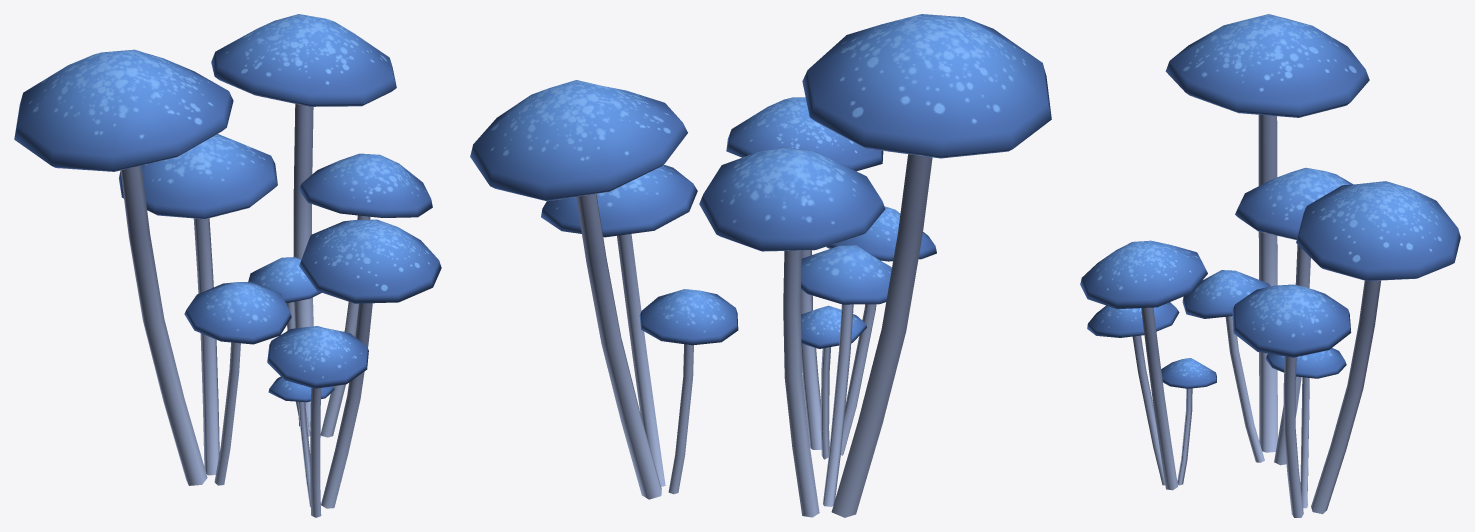
3 renders of one model, left to right at view 1: azimuth 30°, elevation 25°; view 2: azimuth 150°, elevation 25°; view 3: azimuth 270°, elevation 25°, orthographic. The views are drawn at different scales.
Parts seen in each view (by area): view 1: submesh_0; view 2: submesh_0; view 3: submesh_0.
Boxes of the visible parts, x1,y1,x2,y2 form: submesh_0: [14, 14, 441, 517]; submesh_0: [470, 14, 1051, 517]; submesh_0: [1080, 14, 1460, 517].
Bounding box in the file's own units: 0.3653 × 0.3802 × 0.3237.
Materials: 1 (1 with a texture image).
